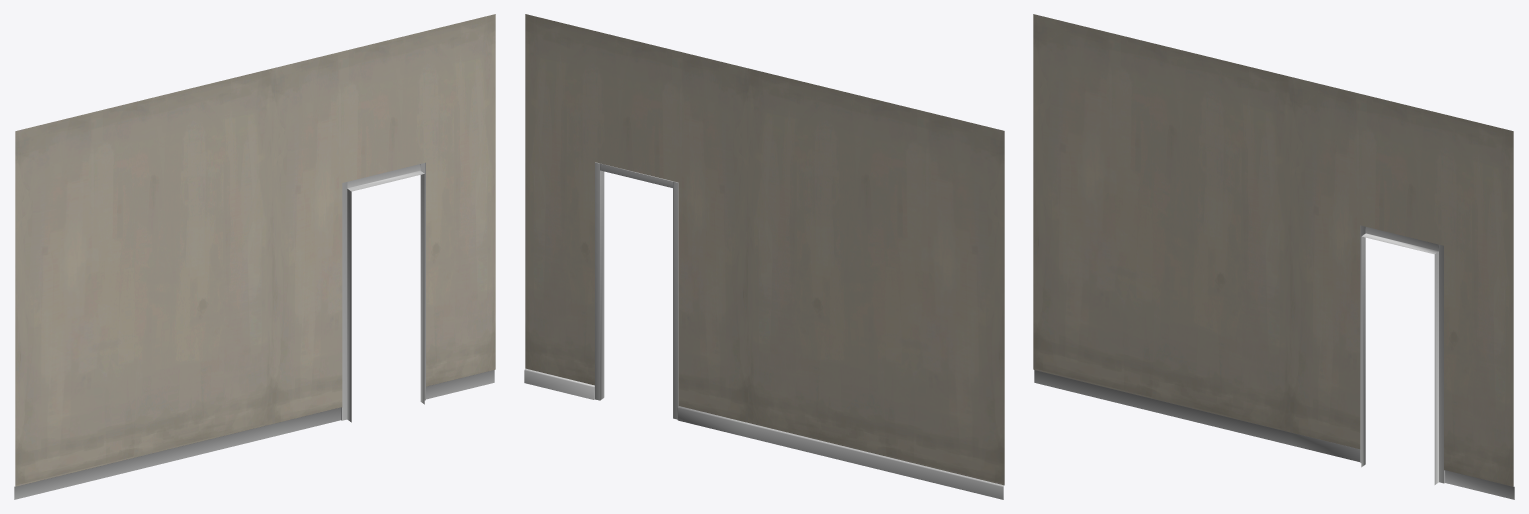
Rendered from Pared_Tra_H2.obj.
3 renders of one model, left to right at view 1: azimuth 30°, elevation 25°; view 2: azimuth 150°, elevation 25°; view 3: azimuth 330°, elevation 25°, orthographic.
Visible parts, largest first — view 1: Pared_Tra_H2; view 2: Pared_Tra_H2; view 3: Pared_Tra_H2.
Part boxes in pixels (x1,y1,x2,y2): Pared_Tra_H2: [14, 14, 495, 499]; Pared_Tra_H2: [524, 14, 1004, 499]; Pared_Tra_H2: [1033, 14, 1514, 499].
Bounding box in the file's own units: 3.62 × 2.66 × 0.0657.
2 materials, 2 textured.
